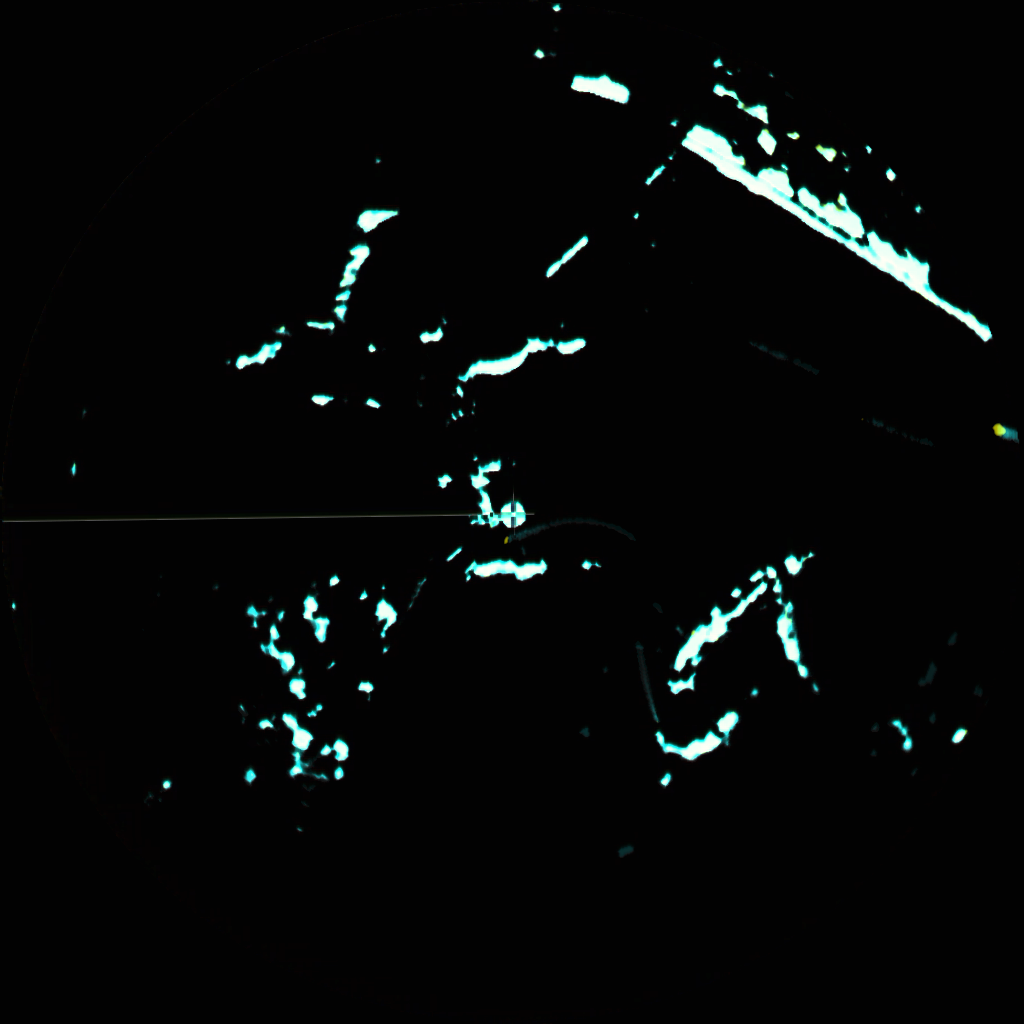B: (640, 671, 663, 724), (504, 524, 561, 544), (993, 421, 1021, 445)
